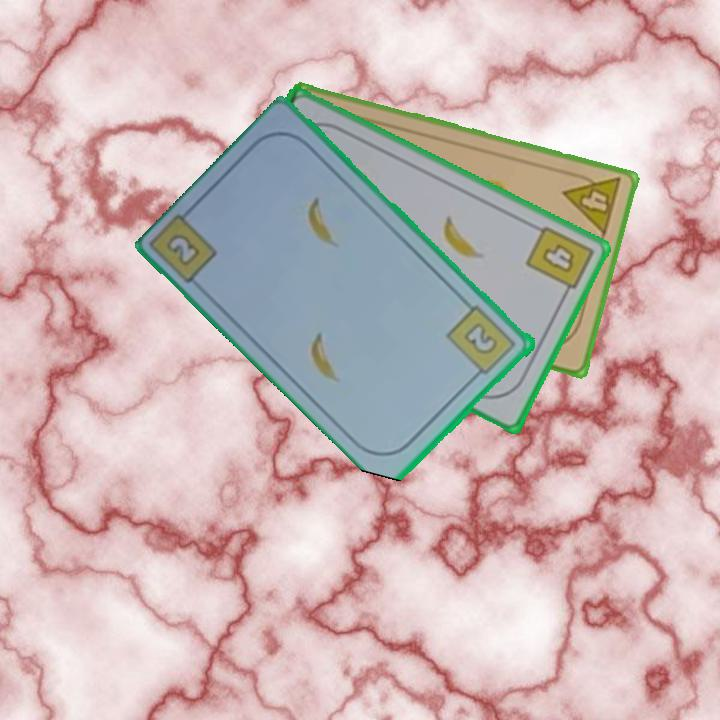2b: (443, 302, 520, 383), (163, 230, 204, 270)
4b: (522, 222, 597, 302)
4p: (559, 167, 624, 238)
